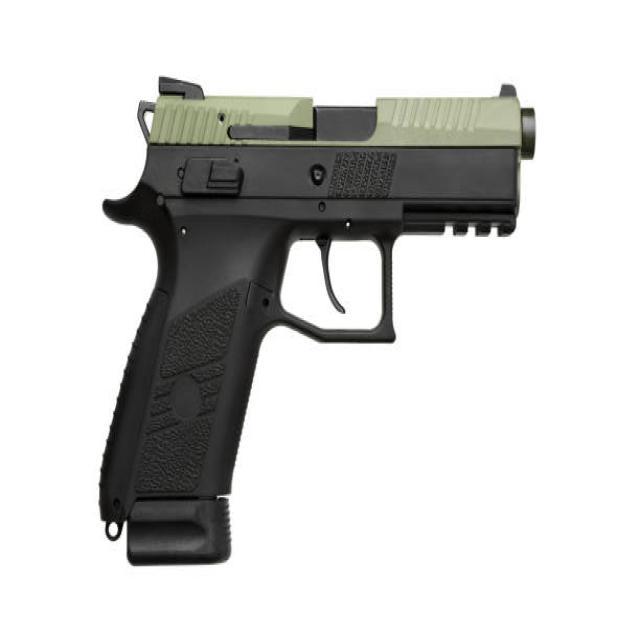pistol: (91, 73, 540, 574)
